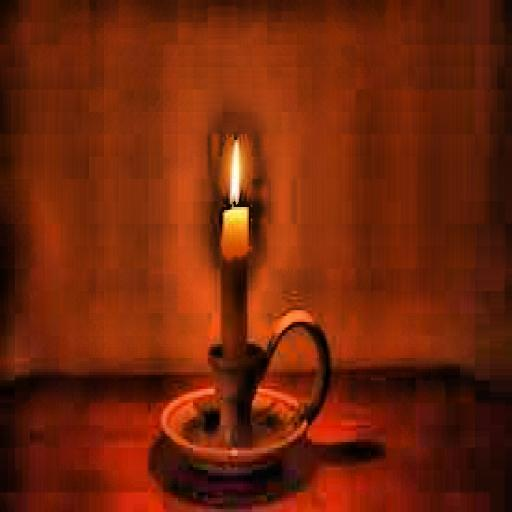fire: (217, 131, 250, 210)
